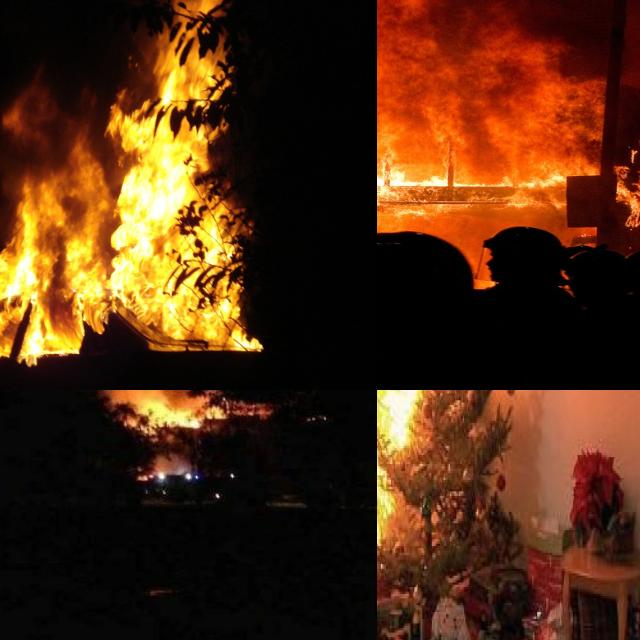fire: (0, 0, 266, 357), (377, 0, 640, 261), (377, 390, 470, 525), (99, 390, 228, 435)
